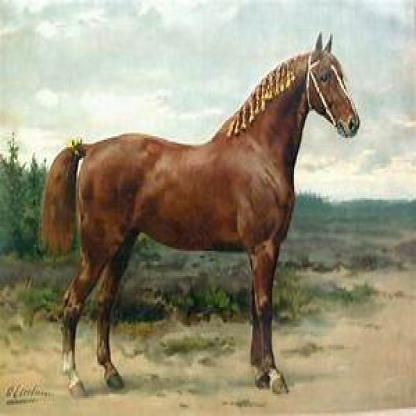horse: (43, 29, 361, 398)
